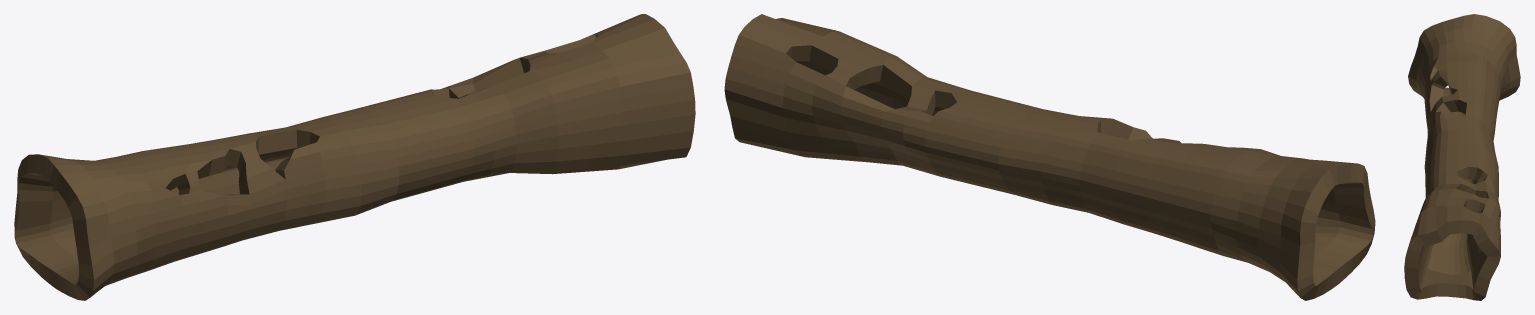
Rendered from tronco1.fbx.
3 renders of one model, left to right at view 1: azimuth 30°, elevation 25°; view 2: azimuth 150°, elevation 25°; view 3: azimuth 270°, elevation 25°, orthographic. The views are drawn at different scales.
Parts seen in each view (by area): view 1: Cylinder; view 2: Cylinder; view 3: Cylinder.
Part boxes in pixels (x1,y1,x2,y2): Cylinder: [14, 14, 695, 300]; Cylinder: [724, 14, 1375, 300]; Cylinder: [1404, 14, 1520, 300].
Size of the model in its own units: 1563 by 307 by 366.
Materials: 1 (1 with a texture image).
